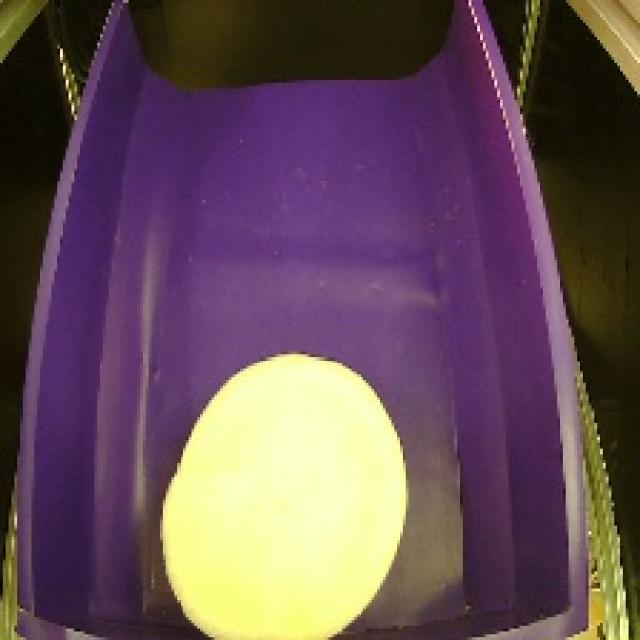white_radish: (144, 340, 410, 640)
